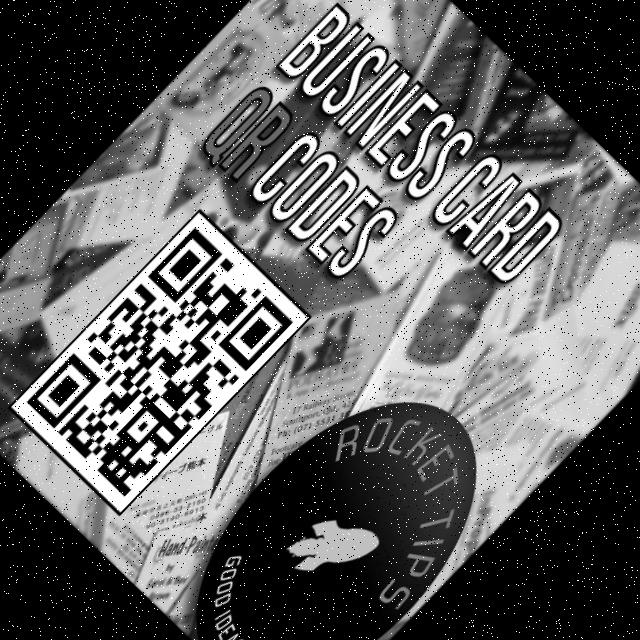QR-codes: (27, 226, 298, 500)
